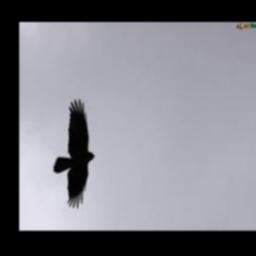Crow: (53, 98, 94, 209)
